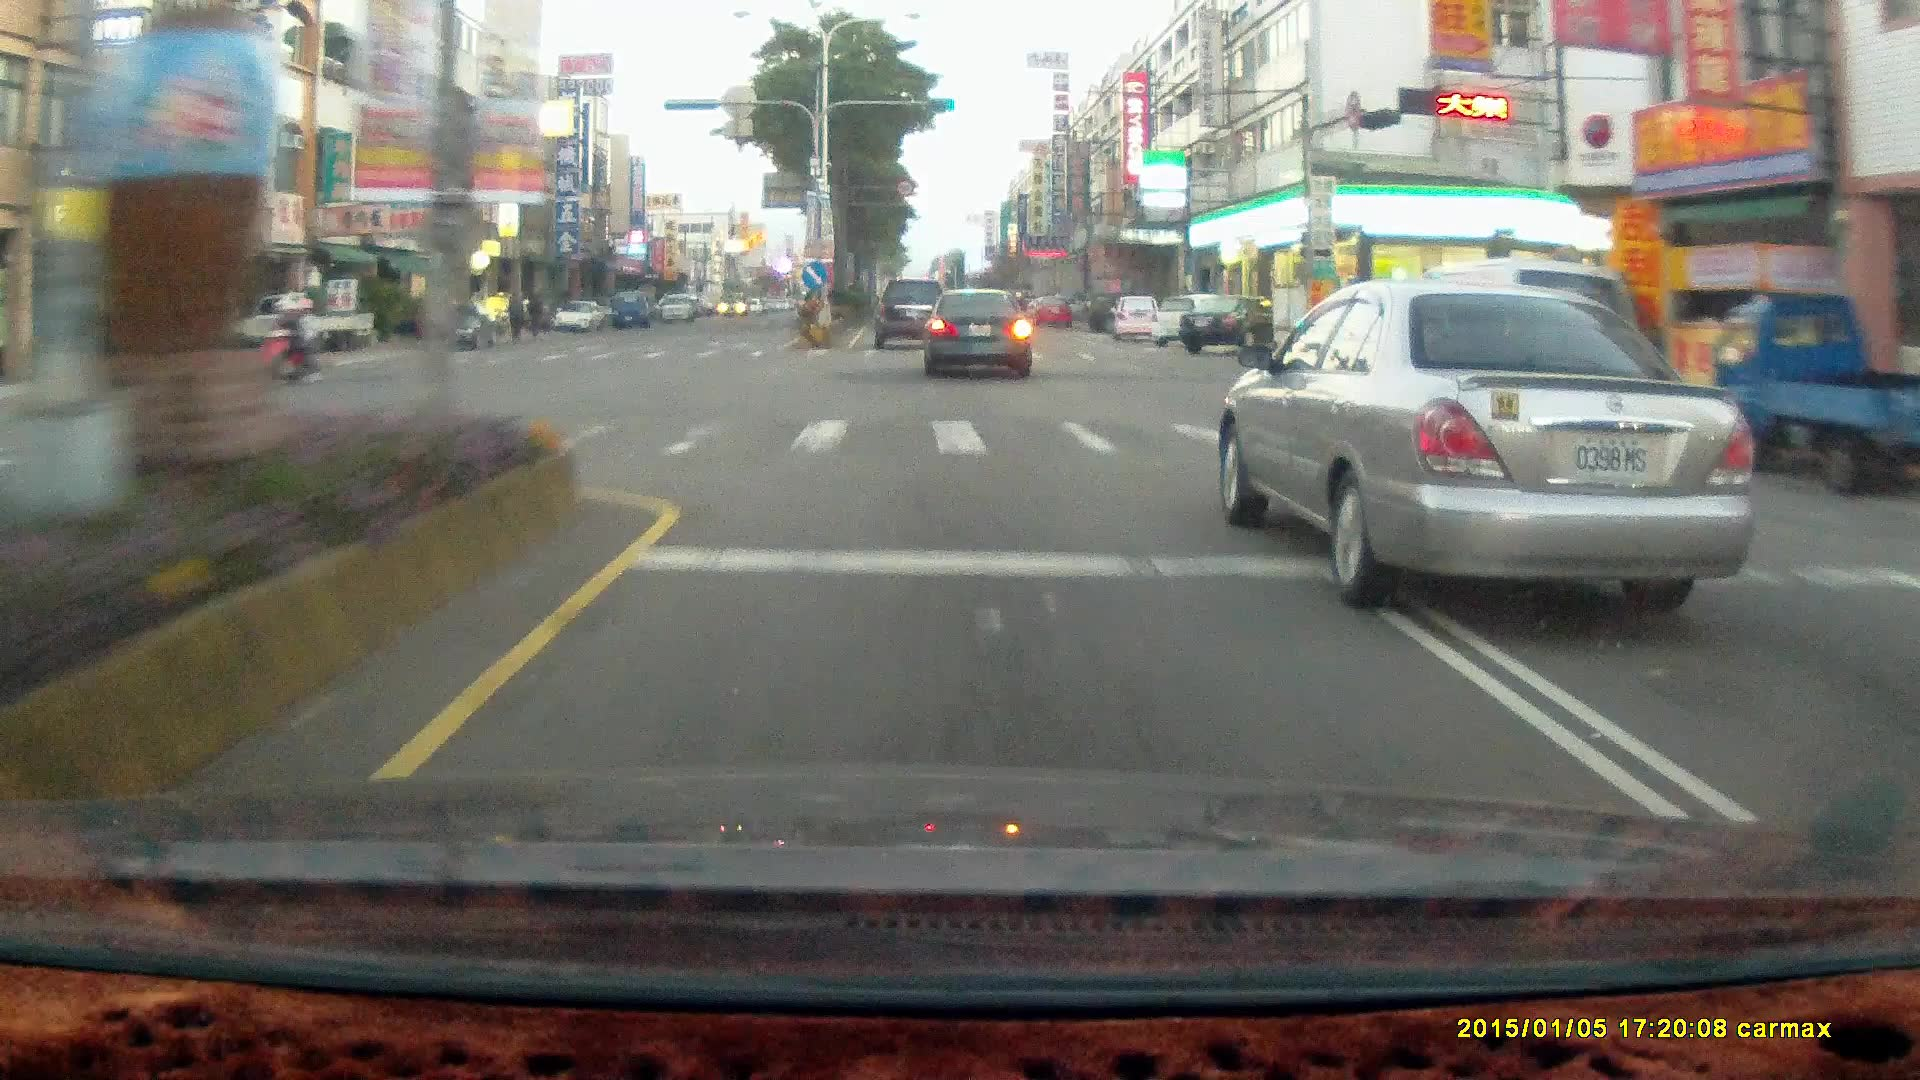pedestrian: (504, 288, 526, 339), (525, 284, 546, 337), (502, 287, 524, 339), (523, 287, 543, 339)
rider: (251, 294, 325, 385)
vehicle: (1218, 280, 1755, 599), (1344, 259, 1636, 448), (1362, 259, 1654, 448), (1706, 289, 1920, 501), (1715, 290, 1920, 500), (36, 303, 206, 378), (924, 289, 1034, 382), (240, 292, 380, 364), (921, 285, 1029, 377), (217, 292, 372, 355), (1176, 291, 1290, 352), (1178, 294, 1277, 354), (873, 277, 948, 350), (872, 277, 948, 348), (1148, 291, 1229, 345), (421, 304, 501, 353), (422, 309, 495, 348), (1106, 292, 1162, 341), (1113, 296, 1166, 347), (1080, 288, 1143, 329), (551, 299, 607, 334), (551, 296, 602, 328), (1029, 293, 1068, 326), (611, 290, 648, 324), (651, 291, 685, 318)
